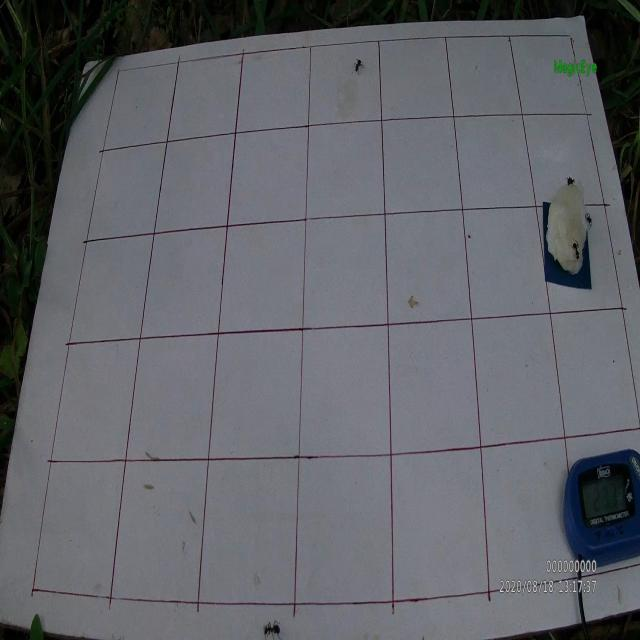Ant: (262, 618, 282, 640), (567, 237, 582, 263), (351, 57, 366, 76), (585, 210, 592, 233), (564, 175, 575, 186)
